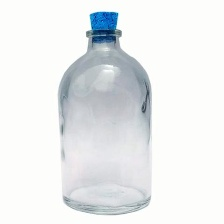bottle: (54, 7, 158, 216)
